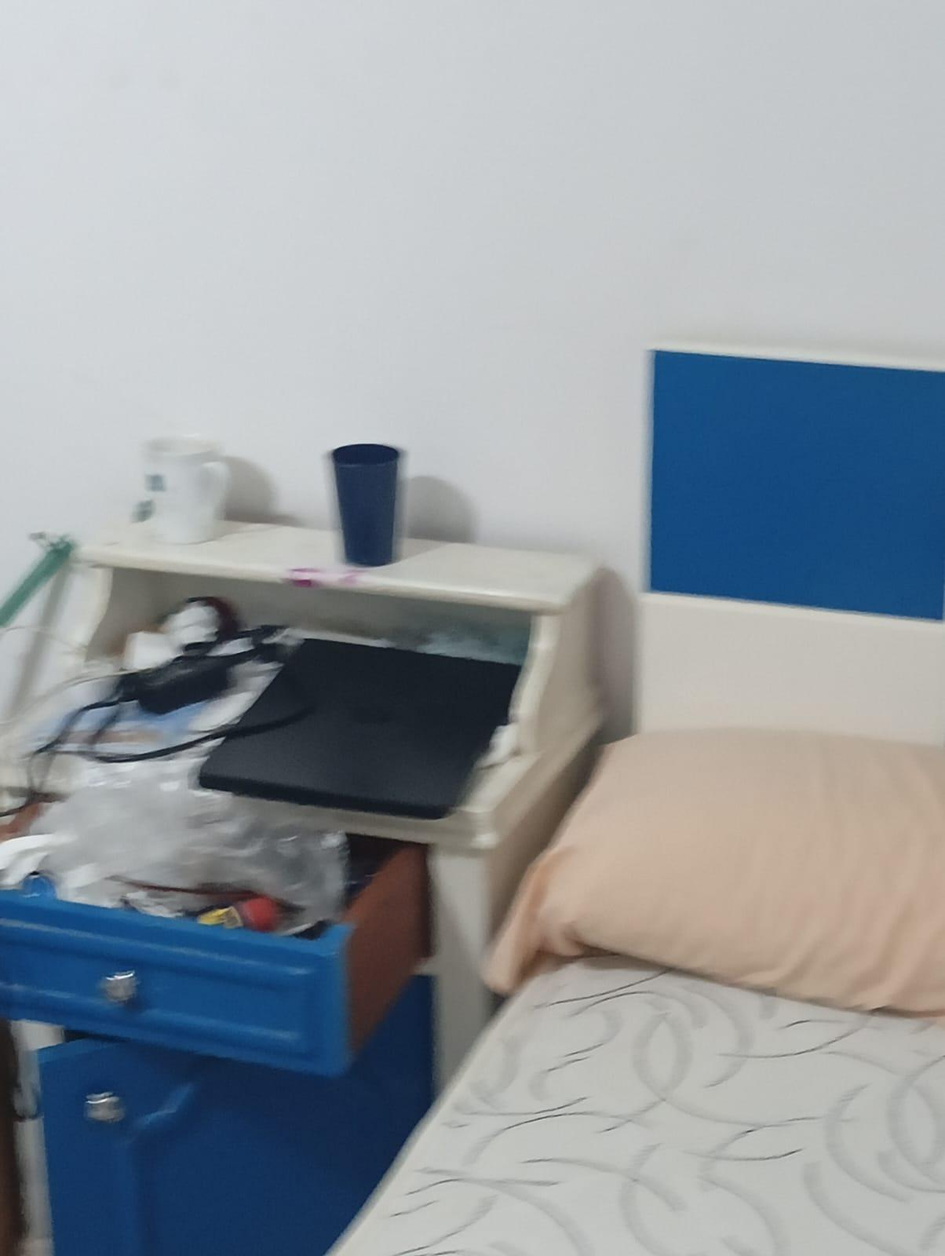cup: (144, 436, 228, 543), (330, 444, 400, 565)
